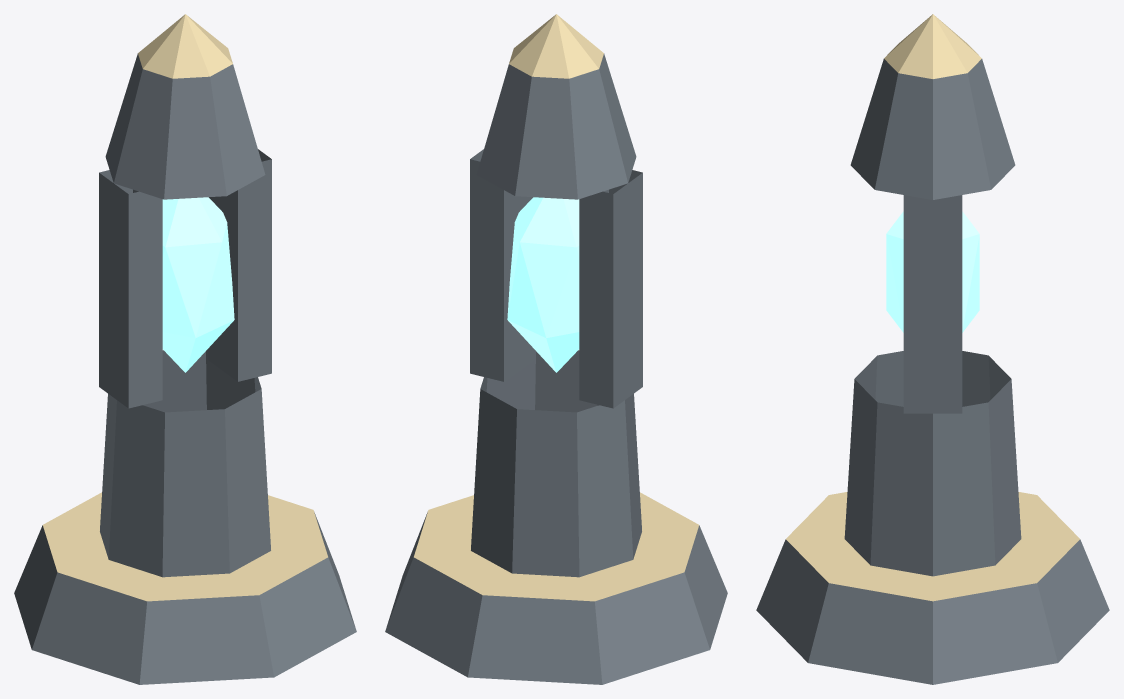
Rendered from waystone_checkpoint.glb.
3 renders of one model, left to right at view 1: azimuth 30°, elevation 25°; view 2: azimuth 150°, elevation 25°; view 3: azimuth 270°, elevation 25°, orthographic.
Visible parts, largest first — view 1: Waystone_Checkpoint; view 2: Waystone_Checkpoint; view 3: Waystone_Checkpoint.
Part boxes in pixels (box(x1,y1,x2,y2)): Waystone_Checkpoint: box(14, 14, 356, 684); Waystone_Checkpoint: box(385, 14, 727, 684); Waystone_Checkpoint: box(756, 14, 1109, 684).
Size of the model in its own units: 1.8 by 3.35 by 1.8.
